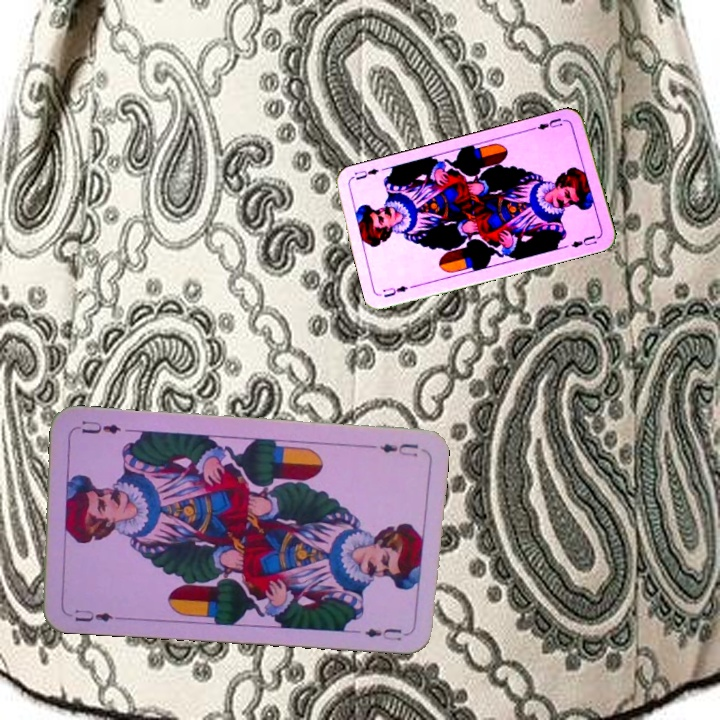EU: (63, 605, 116, 624), (376, 439, 421, 459), (529, 114, 565, 133), (379, 281, 410, 300)
